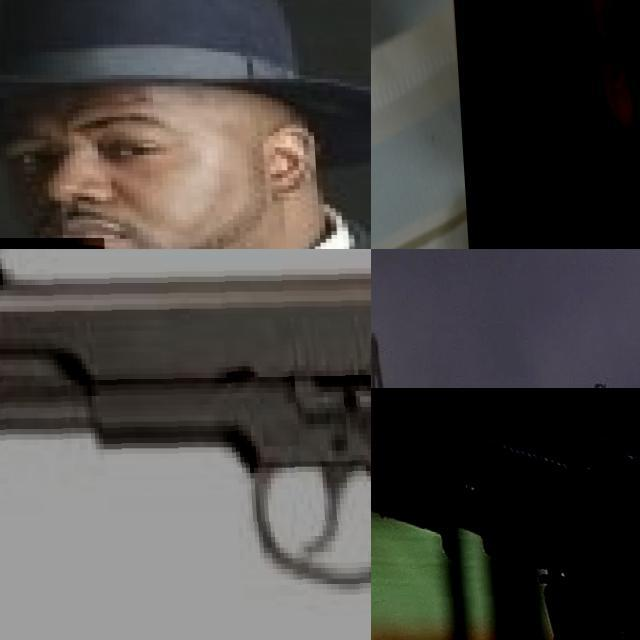gun-knife-thesis - v11 Yolov5 augmented: (0, 249, 371, 640), (371, 388, 640, 640), (449, 0, 640, 249)
